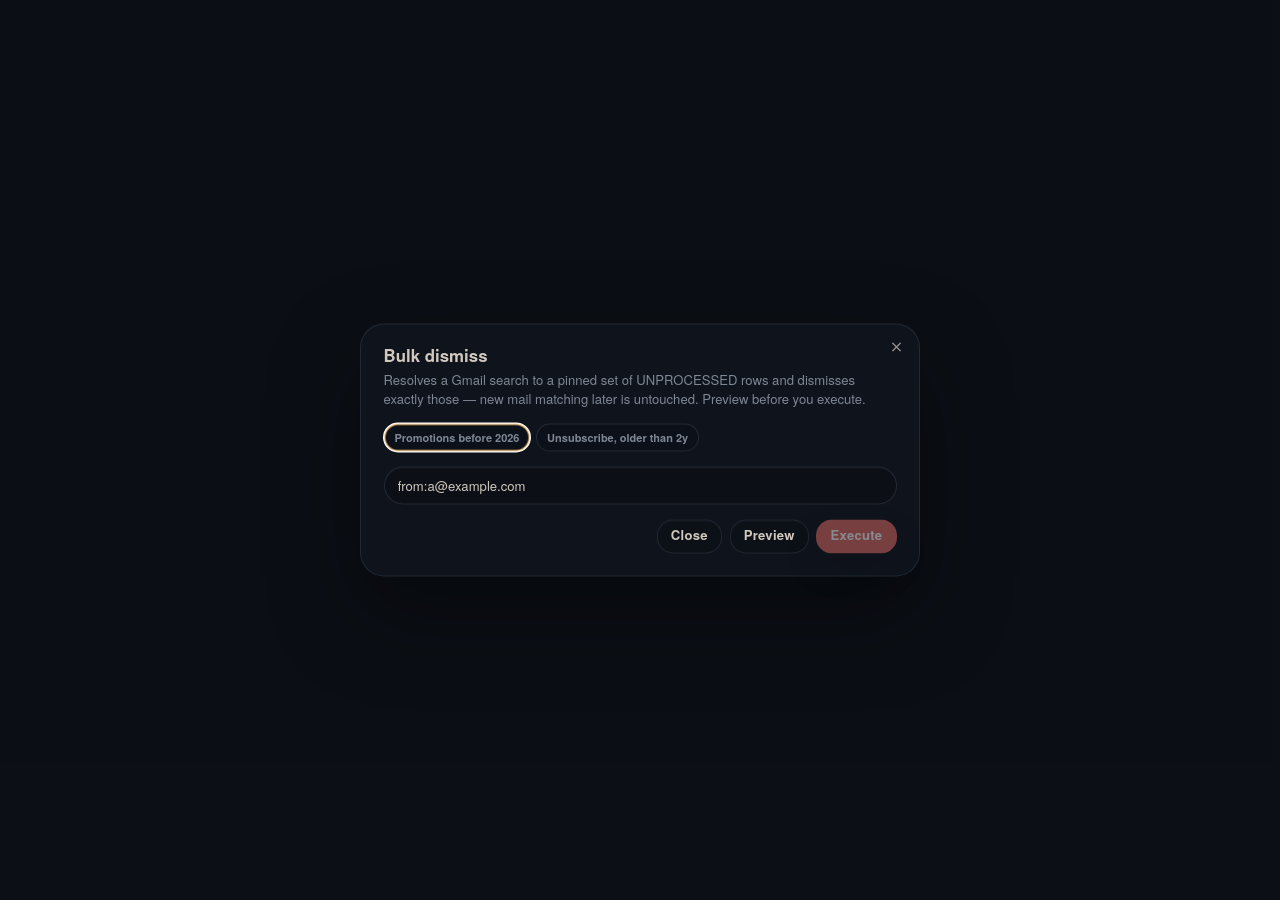
BulkDismissDialog › invalidates a successful preview when the query is edited afterward
Click the button "Preview": [769, 536] box [730, 519, 809, 553]
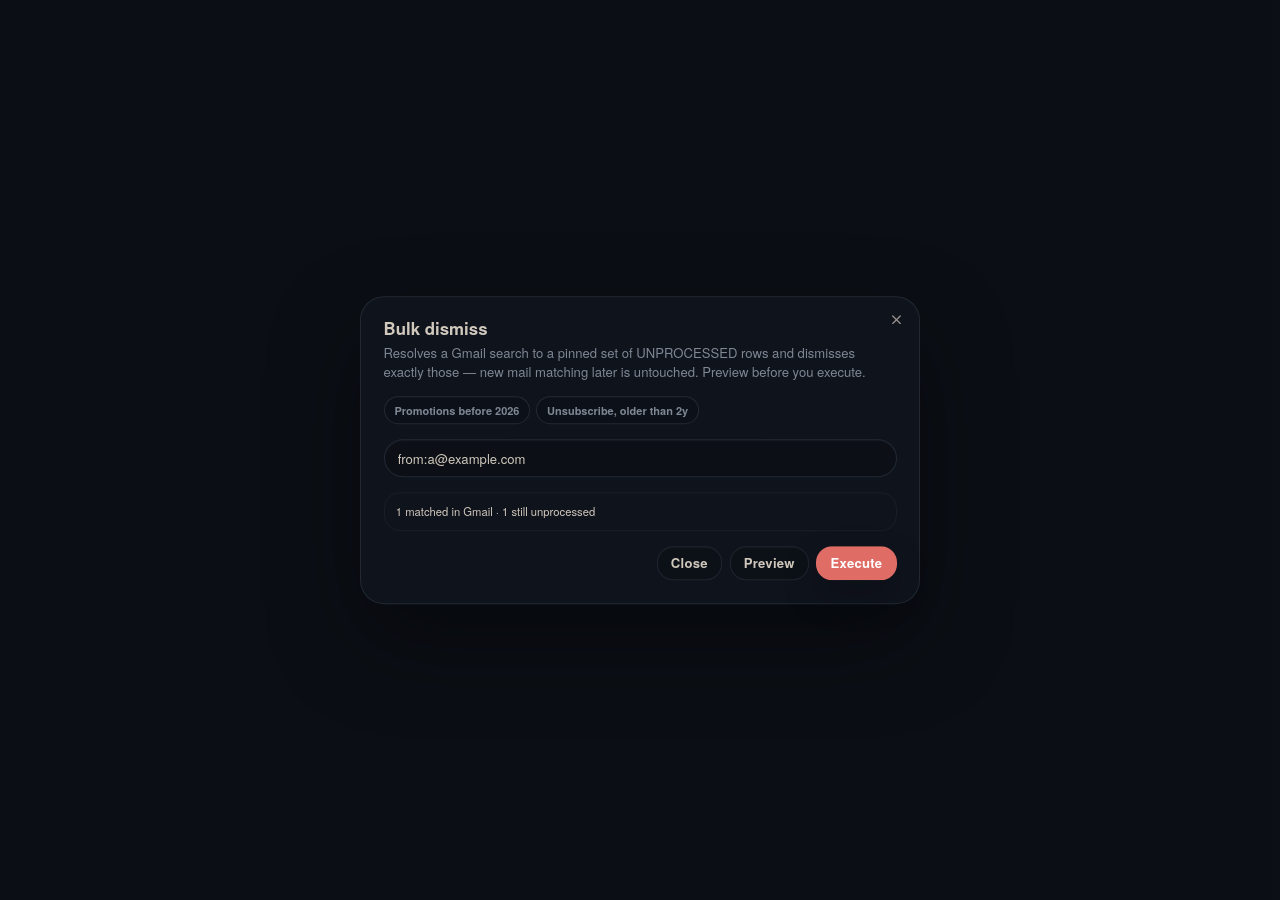
expect the button "Execute" is enabled: met, box [816, 547, 896, 580]
In the field named "Bulk dismiss query": [640, 458] box [384, 440, 896, 477], type "x"
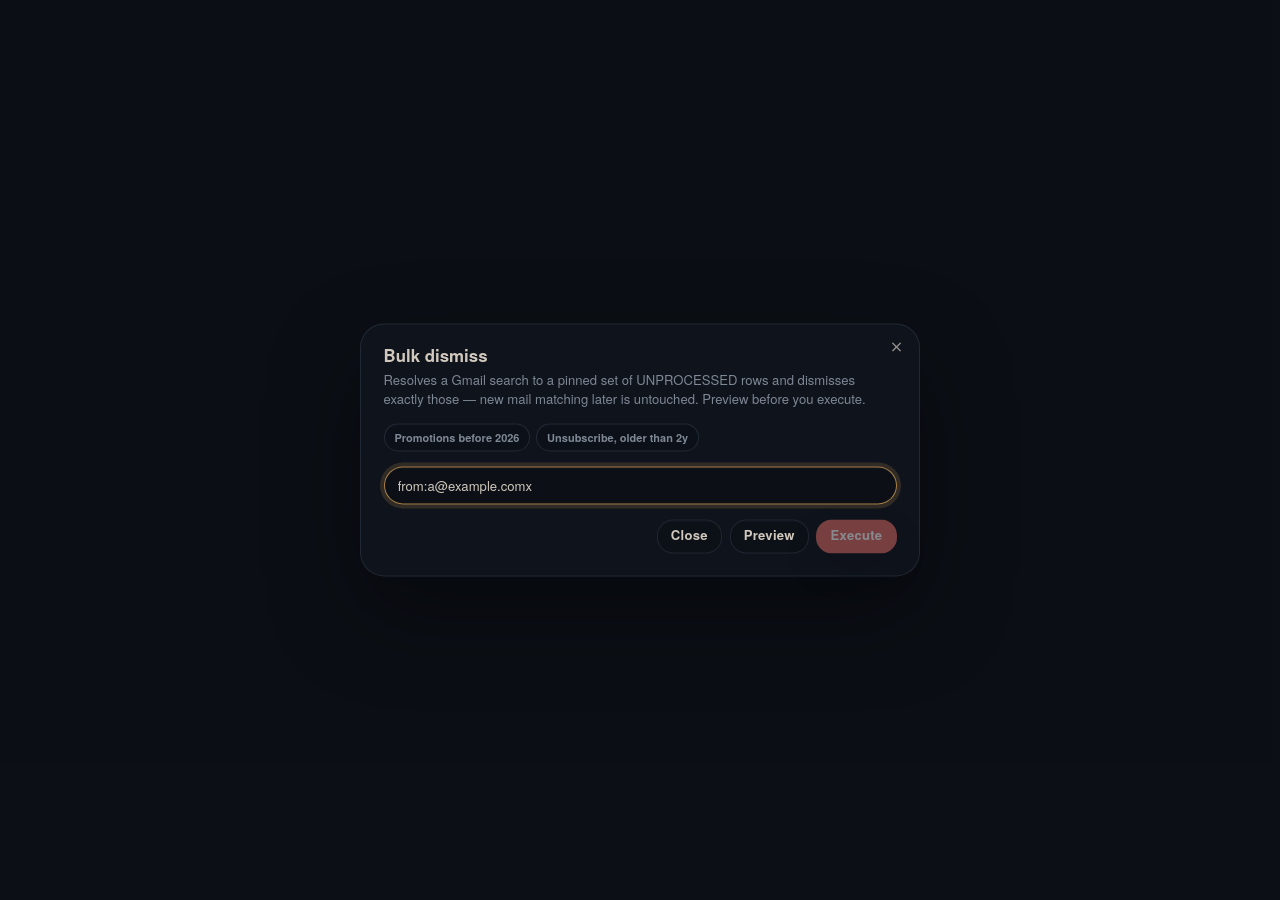
expect the button "Execute" is disabled: met, box [816, 519, 896, 553]
